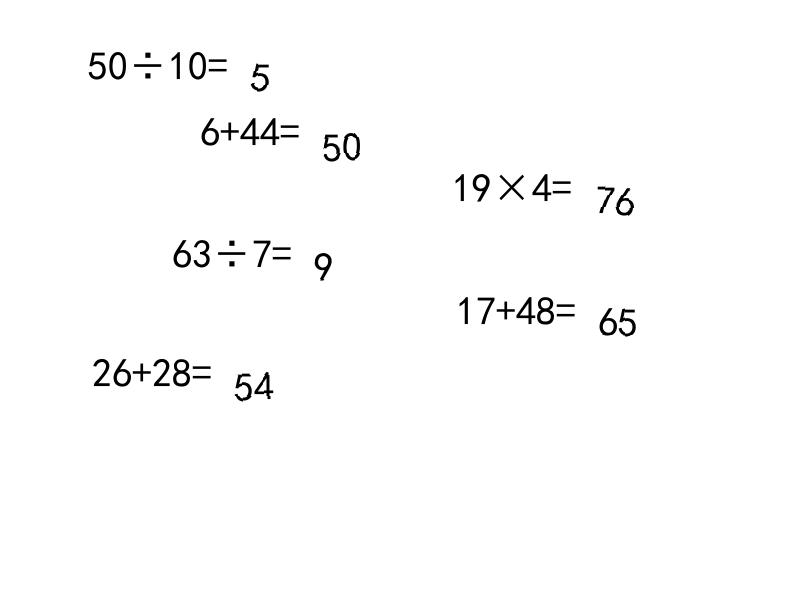+: (132, 352, 152, 381), (220, 111, 240, 139), (496, 290, 516, 318)
0: (108, 45, 128, 74), (188, 45, 208, 74), (330, 111, 350, 139)
1: (168, 45, 188, 74), (452, 167, 472, 195), (456, 290, 476, 318)
2: (92, 352, 112, 381), (152, 352, 172, 381)
3: (192, 233, 212, 262)
4: (242, 352, 262, 381), (240, 111, 260, 139), (260, 111, 280, 139), (532, 167, 552, 195), (516, 290, 536, 318)
5: (88, 45, 108, 74), (238, 45, 258, 74), (222, 352, 242, 381), (310, 111, 330, 139), (606, 290, 626, 318)
6: (172, 233, 192, 262), (112, 352, 132, 381), (200, 111, 220, 139), (602, 167, 622, 195), (586, 290, 606, 318)
7: (252, 233, 272, 262), (582, 167, 602, 195), (476, 290, 496, 318)
8: (172, 352, 192, 381), (536, 290, 556, 318)
9: (302, 233, 322, 262), (472, 167, 492, 195)
=: (208, 45, 228, 74), (272, 233, 292, 262), (192, 352, 212, 381), (280, 111, 300, 139), (552, 167, 572, 195), (556, 290, 576, 318)
×: (492, 167, 532, 195)
÷: (128, 45, 168, 74), (212, 233, 252, 262)
